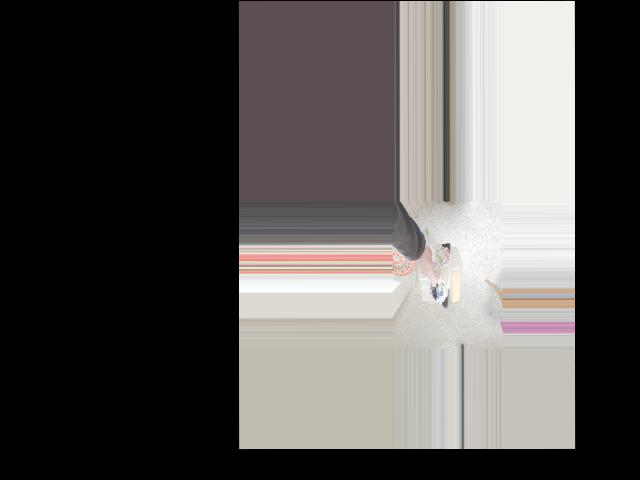cheese: (415, 235, 479, 310)
